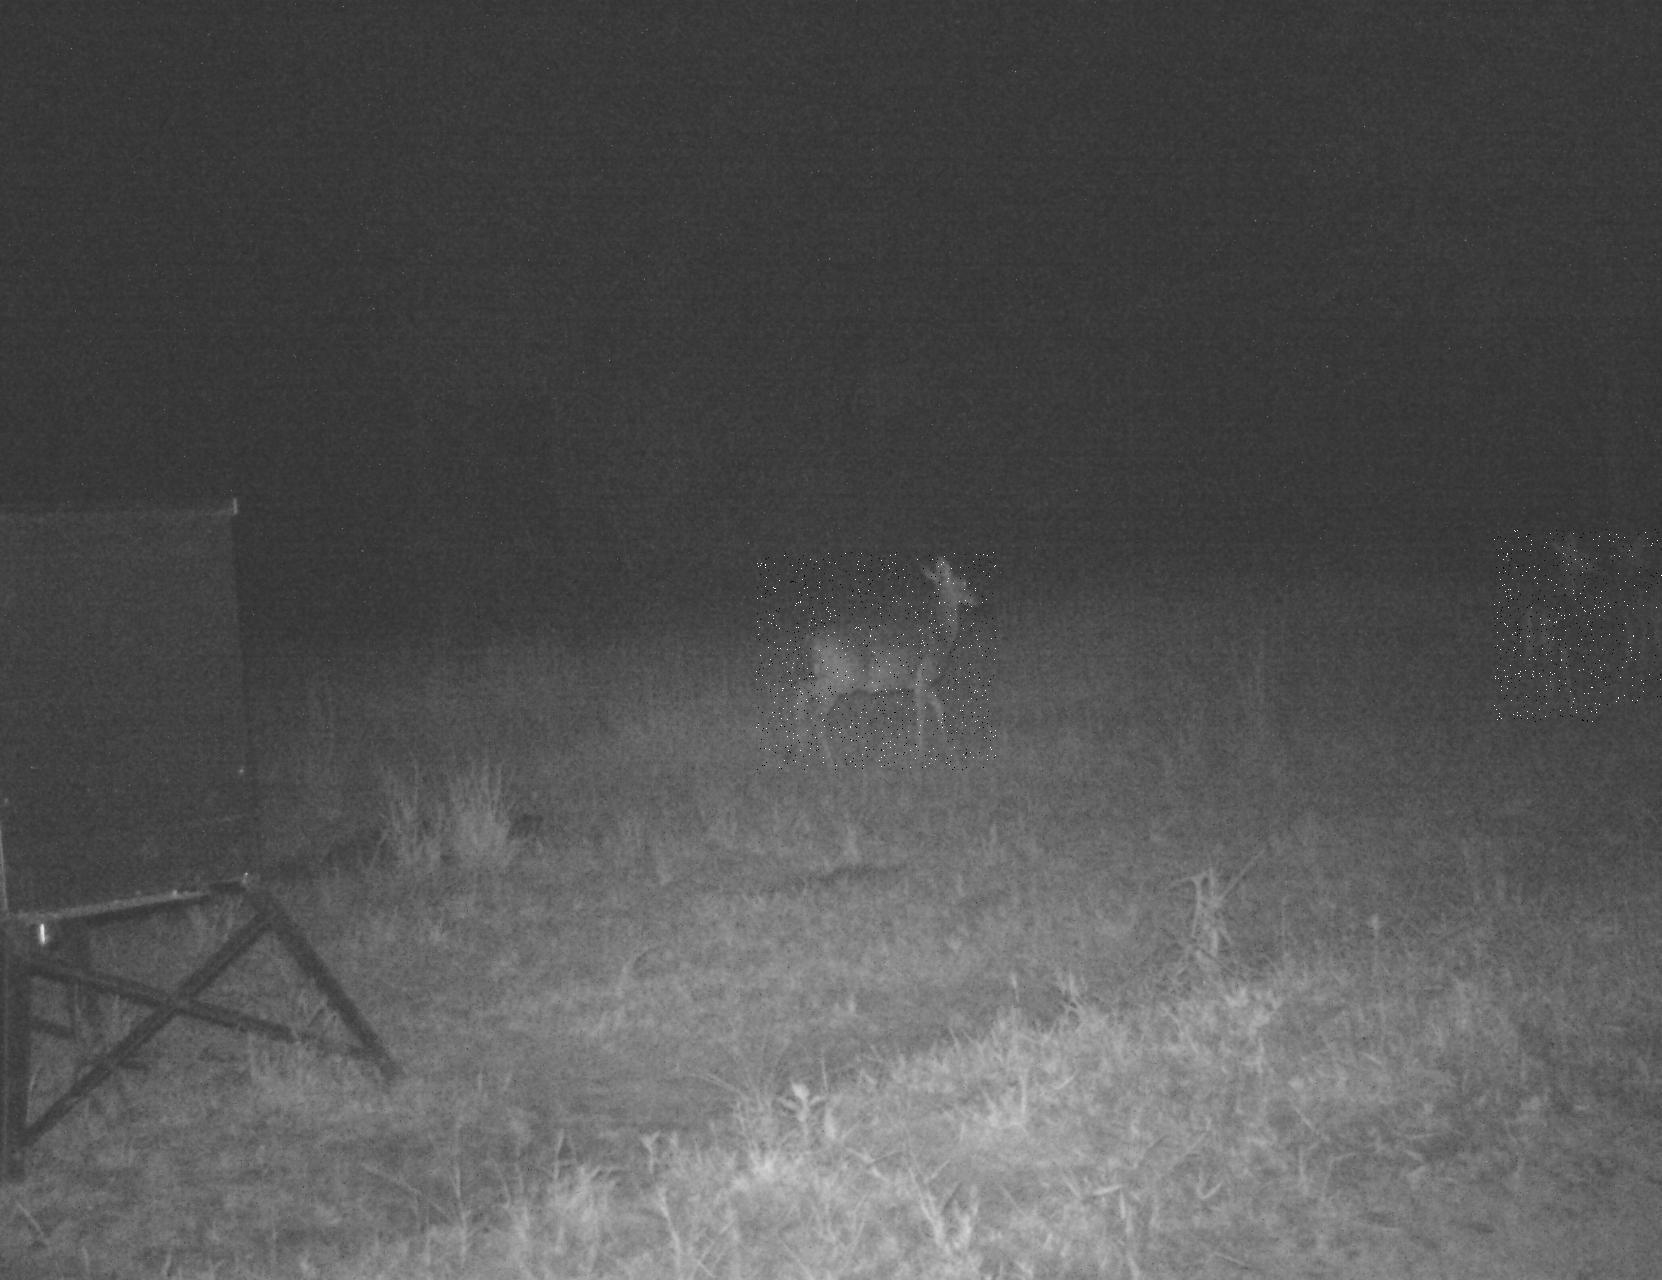Deer: (756, 551, 996, 770), (1494, 530, 1601, 722), (1599, 528, 1662, 707)
